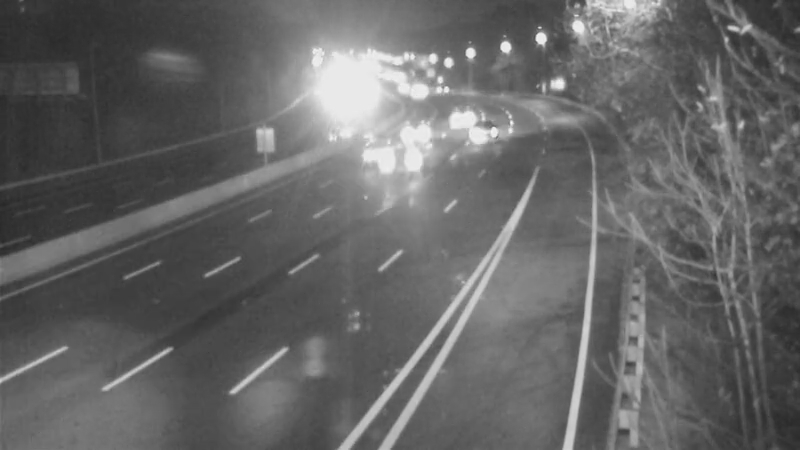vehicle: (370, 122, 450, 202), (436, 85, 486, 135), (399, 103, 449, 153), (458, 107, 508, 157), (357, 120, 407, 170)
